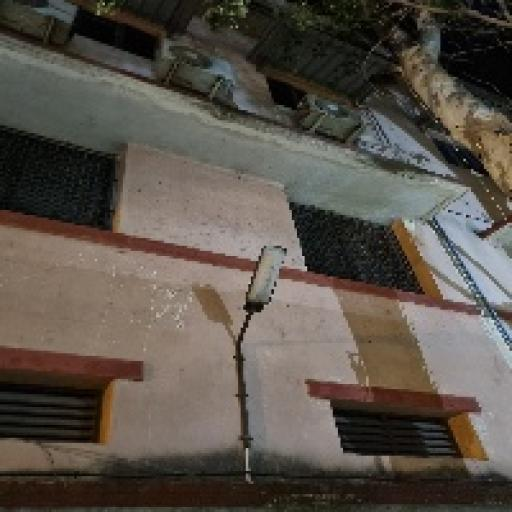Not Working: (230, 235, 298, 321)
